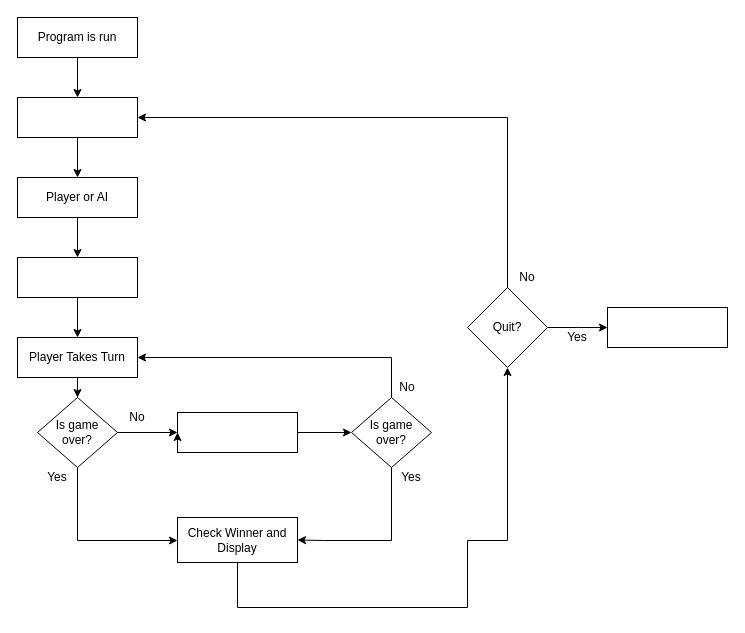
The diagram is 745 pixels wide and 633 high, and some of its shapes have lost their labels. Here are the shapes that lost their labels. From the top down, the box of each, then its label:
(16, 96, 138, 138): Difficulty
(16, 256, 138, 298): Game Board is Loaded
(606, 306, 728, 348): Program Exits
(176, 412, 298, 452): Other Player/AI Takes Turn
